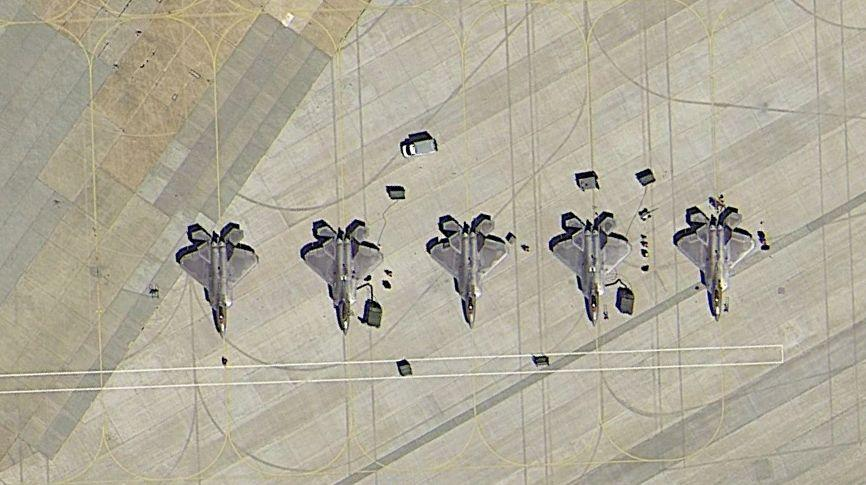F-22: (669, 204, 758, 323), (300, 219, 389, 337), (176, 221, 259, 343), (550, 211, 631, 328), (429, 212, 506, 331)
